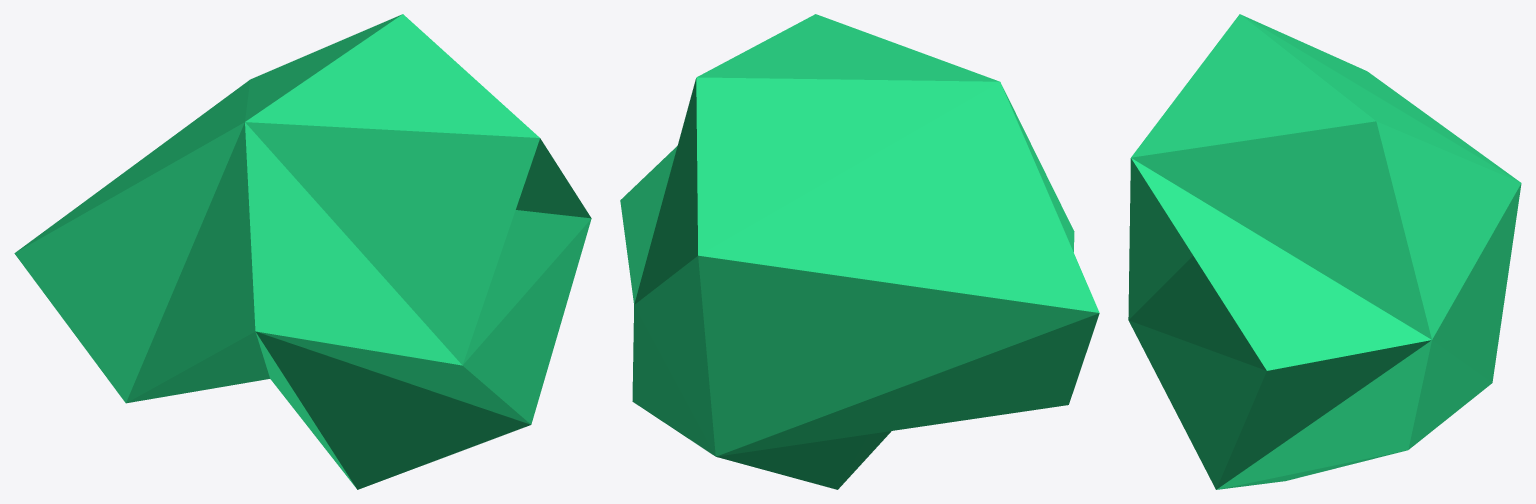
The model's file is spadajacy_krysztal.fbx.
3 renders of one model, left to right at view 1: azimuth 30°, elevation 25°; view 2: azimuth 150°, elevation 25°; view 3: azimuth 270°, elevation 25°, orthographic. The views are drawn at different scales.
Visible parts, largest first — view 1: spadajacy_krysztal; view 2: spadajacy_krysztal; view 3: spadajacy_krysztal.
Boxes of the visible parts, x1,y1,x2,y2 form: spadajacy_krysztal: [14, 14, 591, 489]; spadajacy_krysztal: [620, 14, 1099, 489]; spadajacy_krysztal: [1128, 14, 1521, 489].
Bounding box in the file's own units: 3.23 × 2.46 × 2.17.
